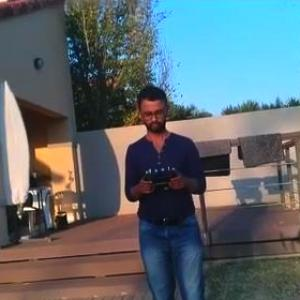follow: (119, 80, 213, 299)
